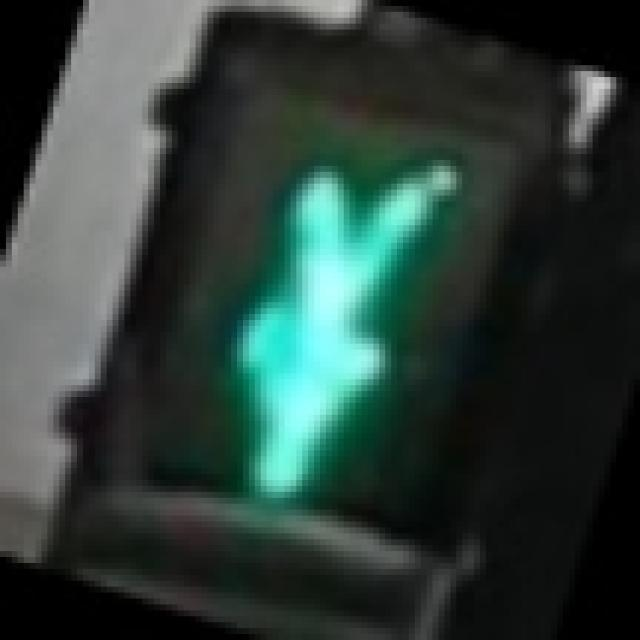green_light: (89, 59, 534, 569)
